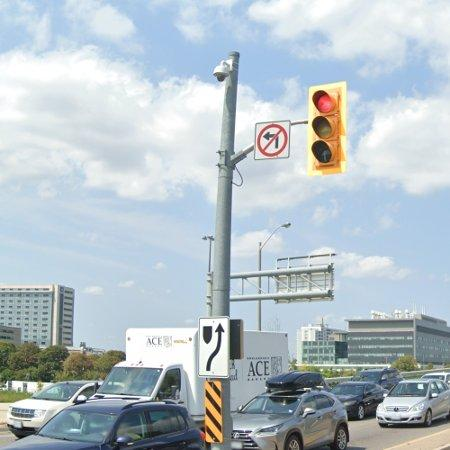traffic lights: (308, 81, 347, 176)
